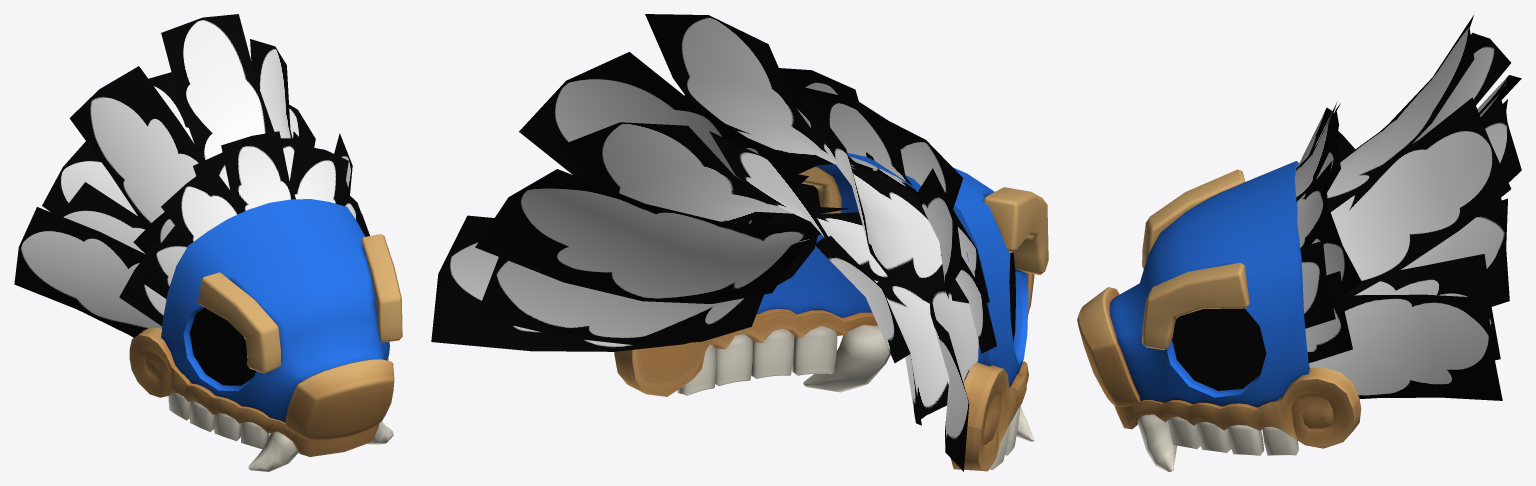
Rendered from SM_Mask.fbx.
3 views of the same model, side by side, from view 1: azimuth 30°, elevation 25°; view 2: azimuth 150°, elevation 25°; view 3: azimuth 270°, elevation 25° (orthographic). The views are drawn at different scales.
Parts seen in each view (by area): view 1: Mask_Mesh; view 2: Mask_Mesh; view 3: Mask_Mesh.
Part boxes in pixels (box(x1,y1,x2,y2)): Mask_Mesh: box(14, 14, 402, 471); Mask_Mesh: box(431, 14, 1048, 471); Mask_Mesh: box(1077, 15, 1521, 471).
Size of the model in its own units: 3.35 by 3.28 by 3.24.
